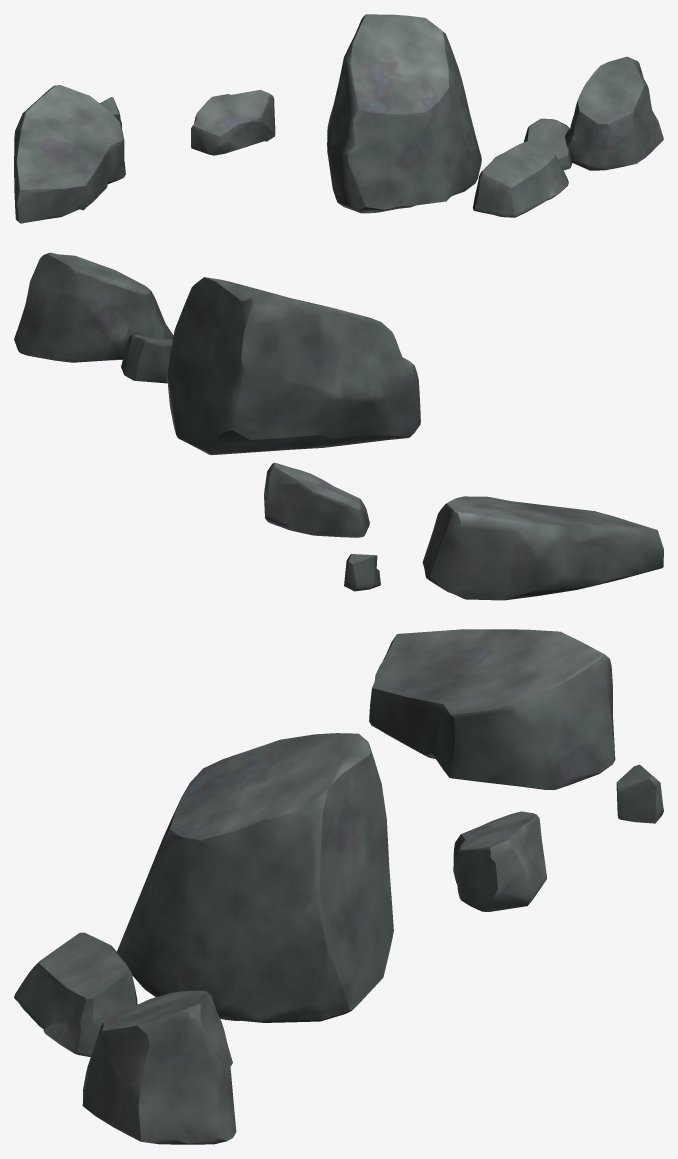
The model's file is caos_drs_rubble_02a_soma_v36.glb.
3 renders of one model, top to bottom at view 1: azimuth 30°, elevation 25°; view 2: azimuth 150°, elevation 25°; view 3: azimuth 270°, elevation 25°, orthographic. The views are drawn at different scales.
Visible parts, largest first — view 1: caos_drs_rubble_02a; view 2: caos_drs_rubble_02a; view 3: caos_drs_rubble_02a.
Boxes of the visible parts, left/top/right/bottom form: caos_drs_rubble_02a: left=14, top=14, right=663, bottom=223; caos_drs_rubble_02a: left=14, top=252, right=663, bottom=600; caos_drs_rubble_02a: left=14, top=629, right=663, bottom=1144.
Bounding box in the file's own units: 4.22 × 0.9698 × 2.49.
Materials: 1 (1 with a texture image).
